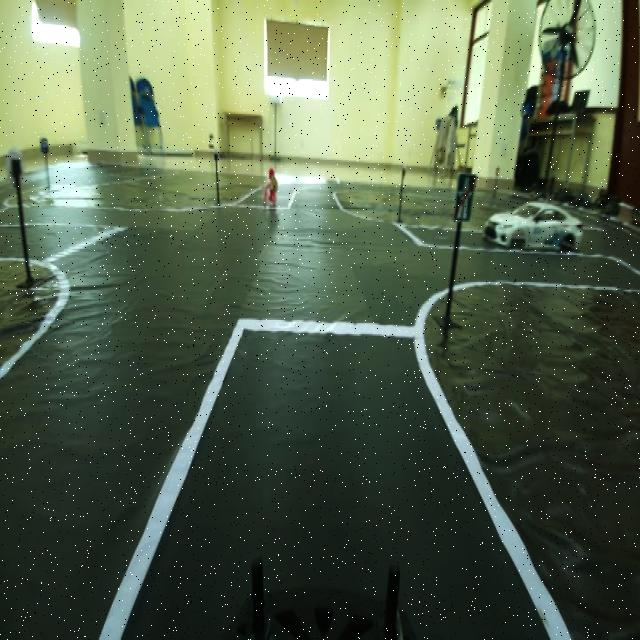highway_exit: (450, 164, 477, 230)
